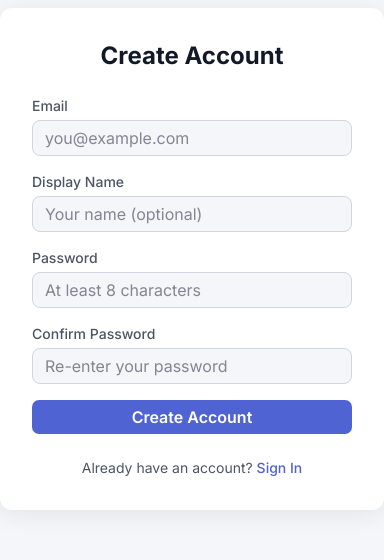
Test case: SignUpPage › shows error when passwords do not match
Type "new@example.com" into the field labelled "Email" at (192, 138), box [32,120,352,156]
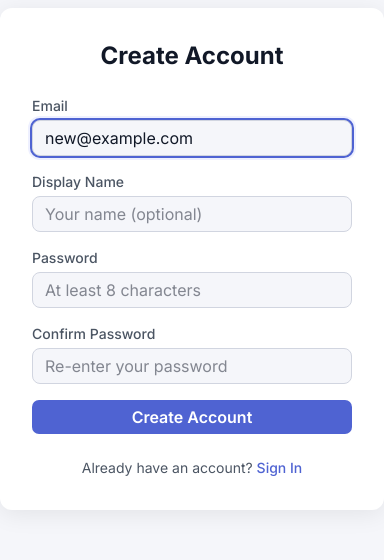
Type "password123" into the password field labelled "Password" at (192, 290), box [32,272,352,308]
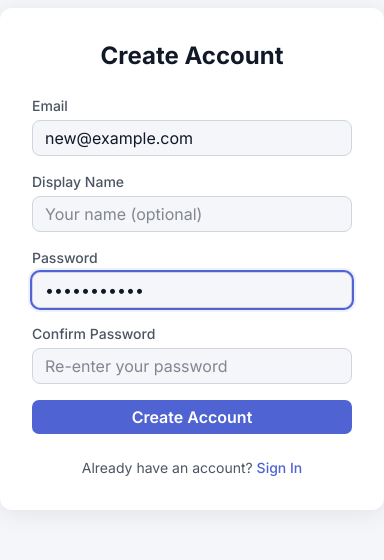
Type "different456" into the password field labelled "Confirm Password" at (192, 366), box [32,348,352,384]
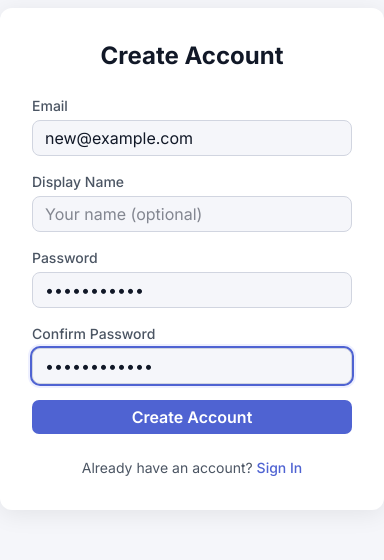
Click the button "Create Account" at (192, 417), box [32,400,352,434]
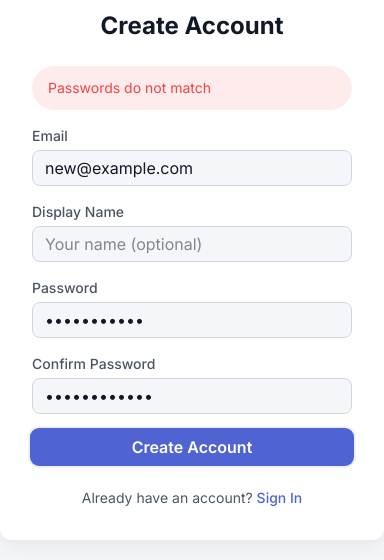
Expected: the message reads "Passwords do not match", [48,79,211,96]
